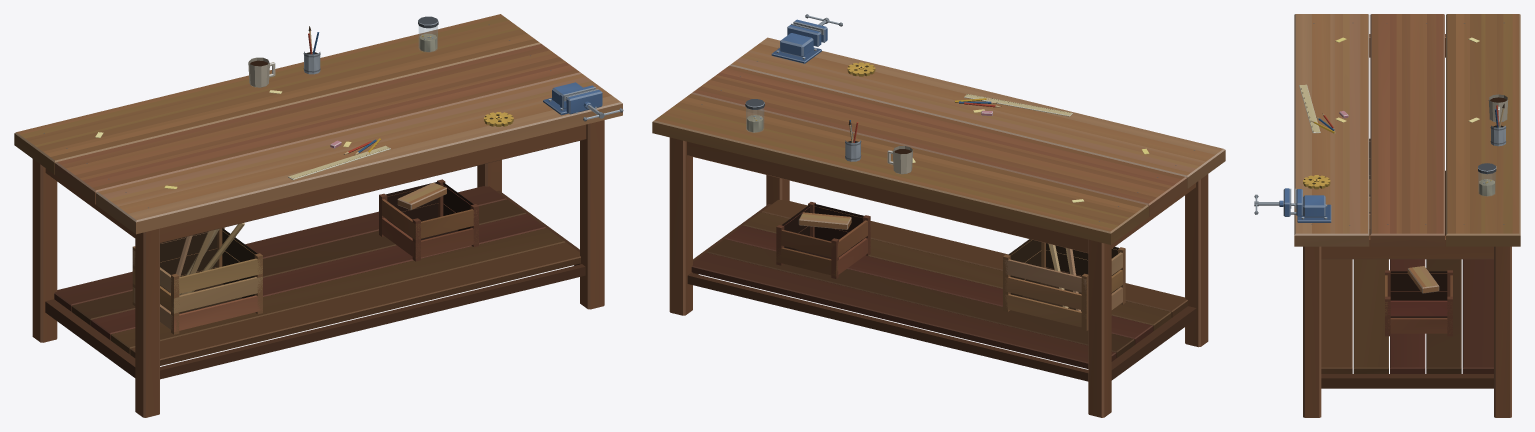
The model's file is workbench.glb.
3 views of the same model, side by side, from view 1: azimuth 30°, elevation 25°; view 2: azimuth 150°, elevation 25°; view 3: azimuth 270°, elevation 25° (orthographic). The views are drawn at different scales.
Visible parts, largest first — view 1: workbench_wood, workbench_steel; view 2: workbench_wood, workbench_steel; view 3: workbench_wood, workbench_steel, workbench_glass, workbench_brass.
Boxes of the visible parts, box(x1,y1,x2,y2) form: workbench_wood: box(14, 14, 622, 417); workbench_steel: box(43, 16, 623, 208); workbench_wood: box(652, 37, 1225, 417); workbench_steel: box(680, 14, 1194, 221); workbench_wood: box(1294, 14, 1520, 417); workbench_steel: box(1254, 22, 1506, 225); workbench_glass: box(1478, 172, 1495, 196); workbench_brass: box(1303, 175, 1330, 189).
Bounding box in the file's own units: 2.3 × 1.11 × 1.17.
